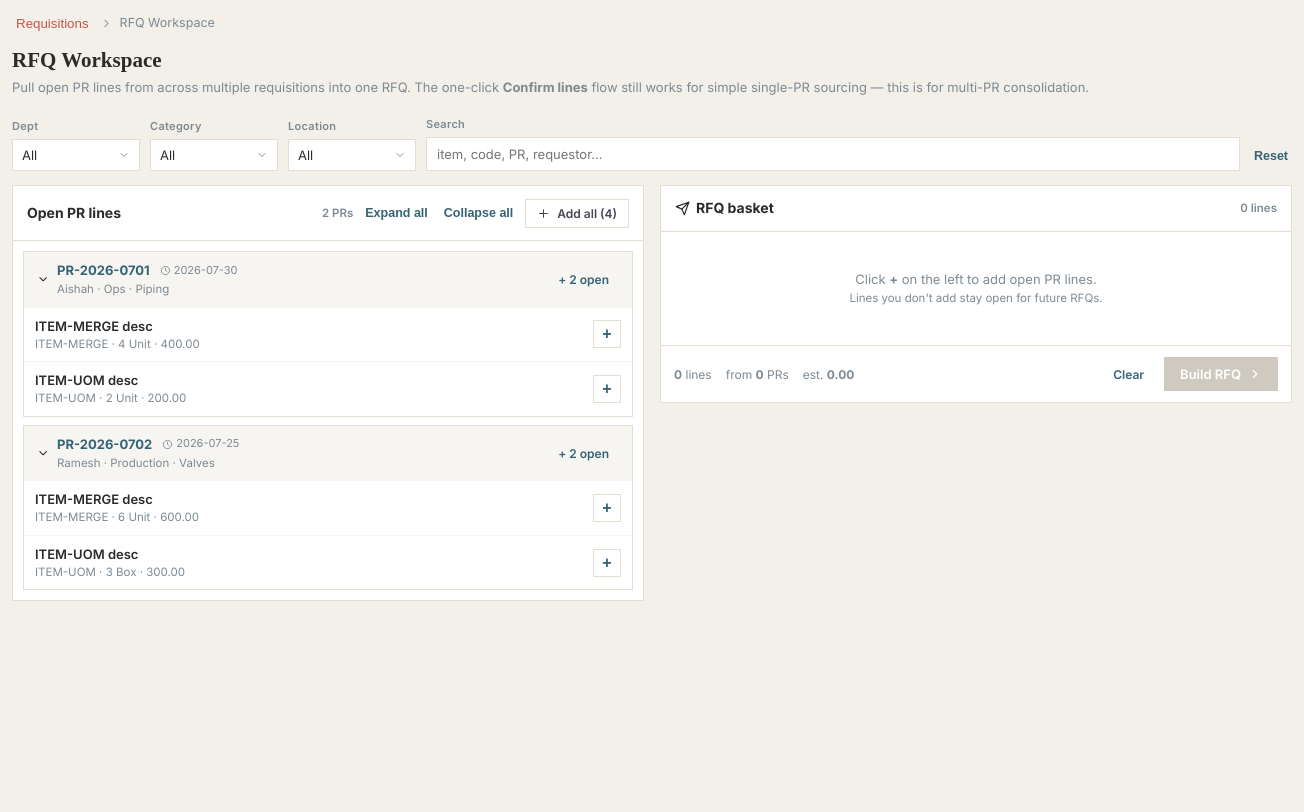
Test: Consolidate Lines (Slice C) › Expand all / Collapse all toggle every PR group
The width and height of the screenshot is (1304, 812).
Check: the button named "Add ITEM-MERGE from PR-2026-0701" is shown, box [593, 320, 621, 348]
Click the button "Collapse all" at {"x": 479, "y": 213}, box [440, 198, 517, 228]
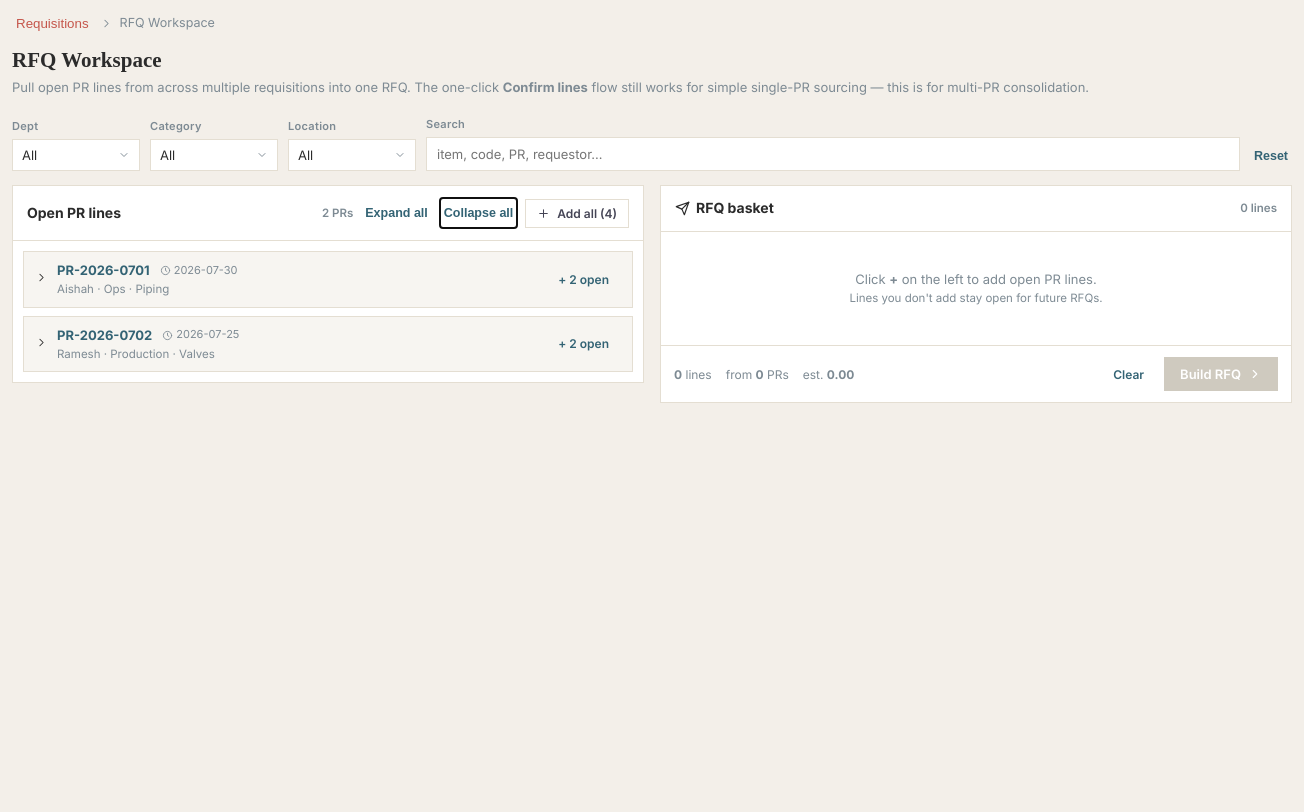
Click the button "Expand all" at {"x": 397, "y": 213}, box [361, 198, 432, 228]
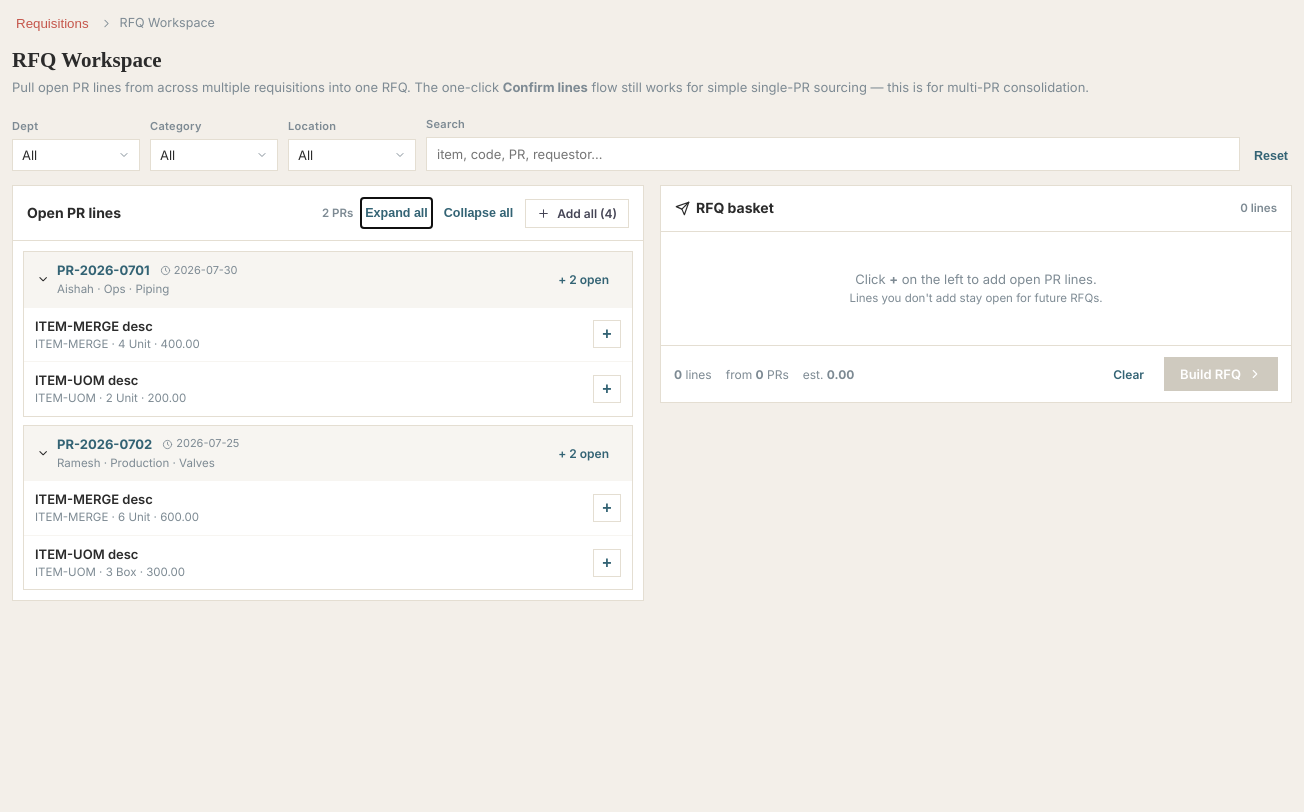
Check: the button named "Add ITEM-MERGE from PR-2026-0701" is shown, box [593, 320, 621, 348]
